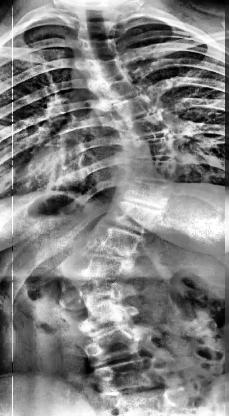Vertebrae: (78, 320, 154, 367), (92, 356, 164, 398), (60, 300, 136, 338), (57, 275, 132, 308), (106, 198, 162, 236), (65, 249, 131, 281), (84, 222, 142, 258), (116, 178, 176, 212), (120, 153, 180, 185), (86, 72, 144, 104), (119, 134, 176, 162), (121, 110, 171, 140), (112, 92, 158, 124), (76, 55, 128, 81), (77, 34, 123, 58)
